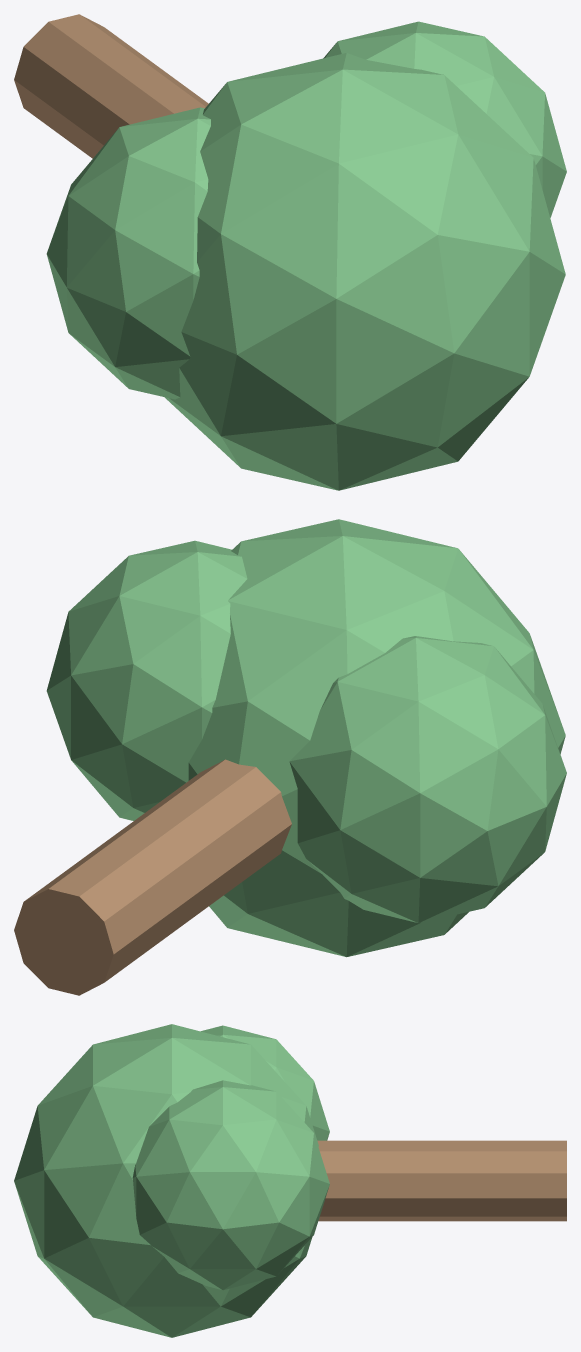
The model's file is env_city_tree_green.glb.
The picture shows the model from 3 angles, top to bottom: view 1: azimuth 30°, elevation 25°; view 2: azimuth 150°, elevation 25°; view 3: azimuth 270°, elevation 25°; orthographic projection. The views are drawn at different scales.
Parts seen in each view (by area): view 1: foliage_1, foliage_3, trunk, foliage_2; view 2: foliage_3, foliage_1, foliage_2, trunk; view 3: foliage_1, foliage_2, trunk, foliage_3.
Part boxes in pixels (x1,y1,x2,y2): foliage_1: (164, 53, 565, 490); foliage_3: (46, 107, 210, 399); trunk: (14, 14, 208, 158); foliage_2: (323, 21, 566, 217); foliage_3: (289, 636, 566, 923); foliage_1: (188, 519, 565, 957); foliage_2: (46, 540, 247, 820); trunk: (14, 759, 291, 995); foliage_1: (14, 1024, 318, 1337); foliage_2: (132, 1080, 329, 1290); trunk: (317, 1140, 566, 1221); foliage_3: (201, 1025, 329, 1140).
Size of the model in its own units: 1.54 by 1.24 by 2.17.
